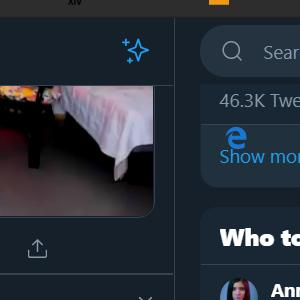edge: (224, 126, 248, 149)
